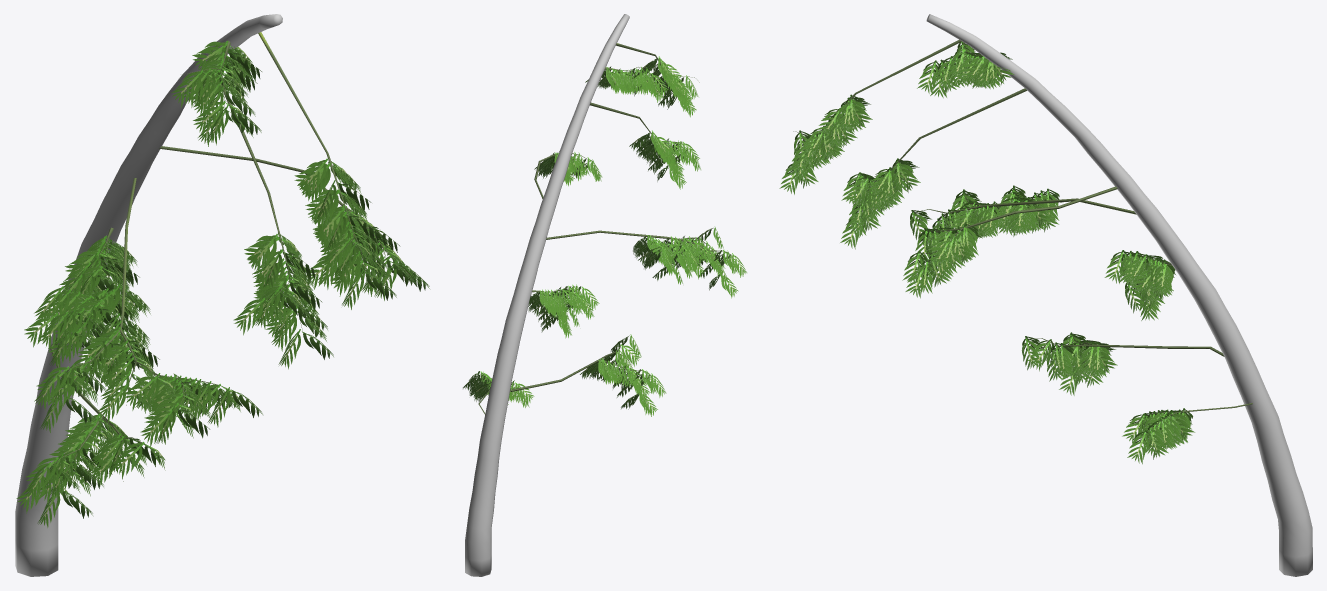
Rendered from Model_Guadua_01.fbx.
3 views of the same model, side by side, from view 1: azimuth 30°, elevation 25°; view 2: azimuth 150°, elevation 25°; view 3: azimuth 270°, elevation 25° (orthographic). The views are drawn at different scales.
Parts seen in each view (by area): view 1: GLD01C.002, GuaduaTrunk.003; view 2: GLD01C.002, GuaduaTrunk.003; view 3: GLD01C.002, GuaduaTrunk.003.
Part boxes in pixels (x1,y1,x2,y2): GLD01C.002: (16,40,430,527); GuaduaTrunk.003: (15,14,399,576); GLD01C.002: (463,56,746,416); GuaduaTrunk.003: (465,14,731,576); GLD01C.002: (779,41,1195,464); GuaduaTrunk.003: (793,14,1312,576).
Bounding box in the file's own units: 9.36 × 18.09 × 15.81.
